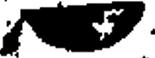Basket: (0, 0, 149, 57)
